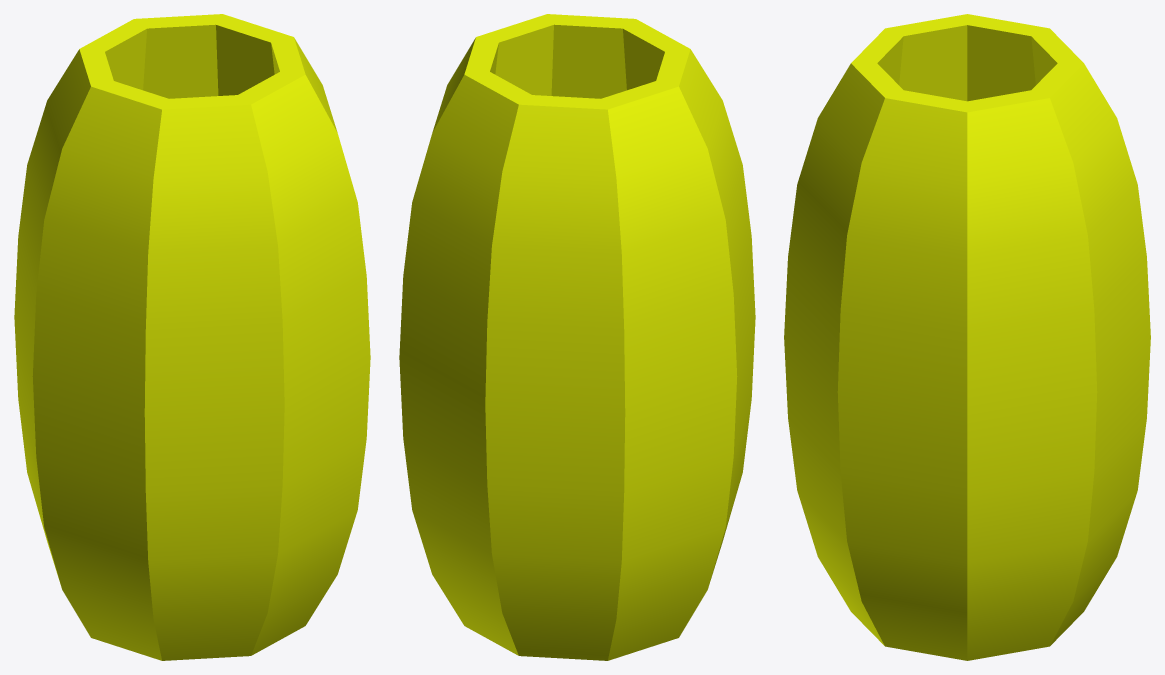
The model's file is Vase2.FBX.
3 renders of one model, left to right at view 1: azimuth 30°, elevation 25°; view 2: azimuth 150°, elevation 25°; view 3: azimuth 270°, elevation 25°, orthographic.
Parts seen in each view (by area): view 1: Cylinder001; view 2: Cylinder001; view 3: Cylinder001.
Part boxes in pixels (box(x1,y1,x2,y2)): Cylinder001: box(14, 14, 370, 660); Cylinder001: box(399, 14, 755, 660); Cylinder001: box(784, 14, 1150, 660).
Size of the model in its own units: 0.4449 by 0.734 by 0.4449.
